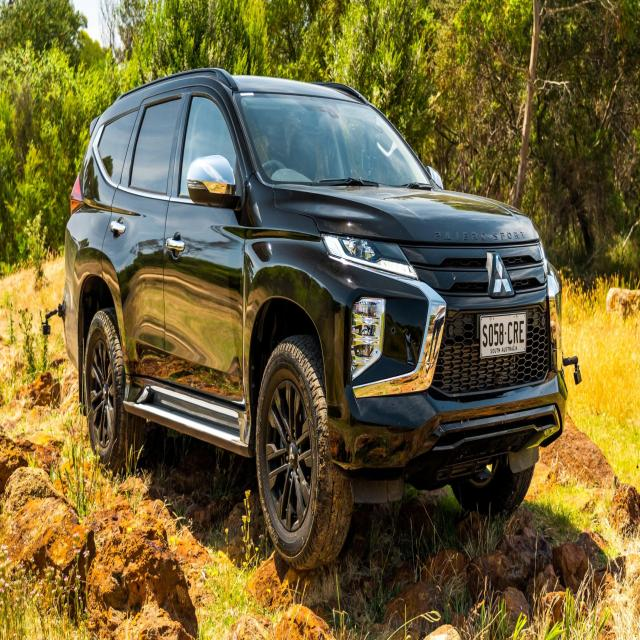light_vehicle: (51, 67, 582, 575)
